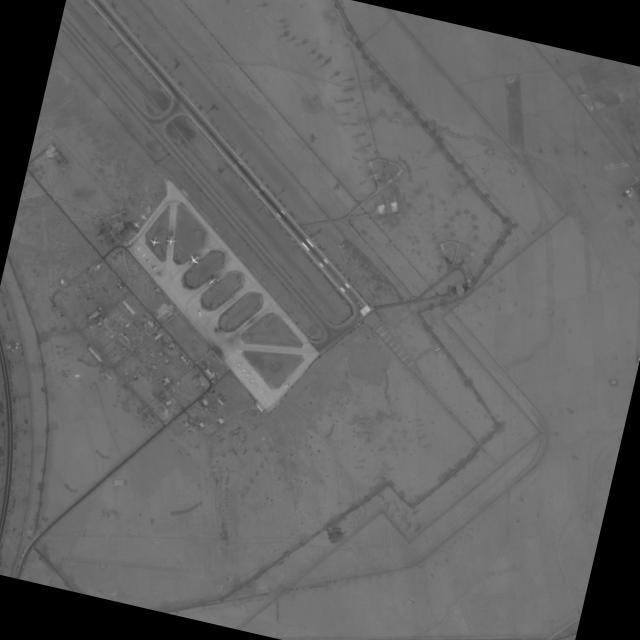plane: (187, 251, 203, 266), (204, 272, 220, 287), (148, 234, 162, 246), (165, 233, 177, 245), (138, 210, 149, 221), (131, 219, 142, 229), (144, 256, 153, 265), (282, 380, 291, 389), (144, 206, 152, 214), (151, 263, 159, 271), (135, 244, 142, 252), (196, 307, 203, 315), (140, 251, 147, 258), (235, 360, 242, 366), (259, 387, 265, 393), (245, 371, 251, 377), (250, 377, 256, 382), (241, 366, 246, 372)
